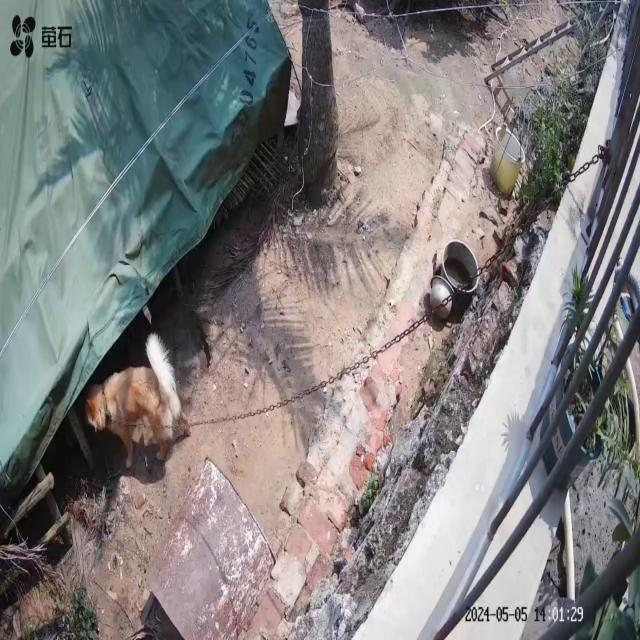dog: (85, 333, 186, 470)
